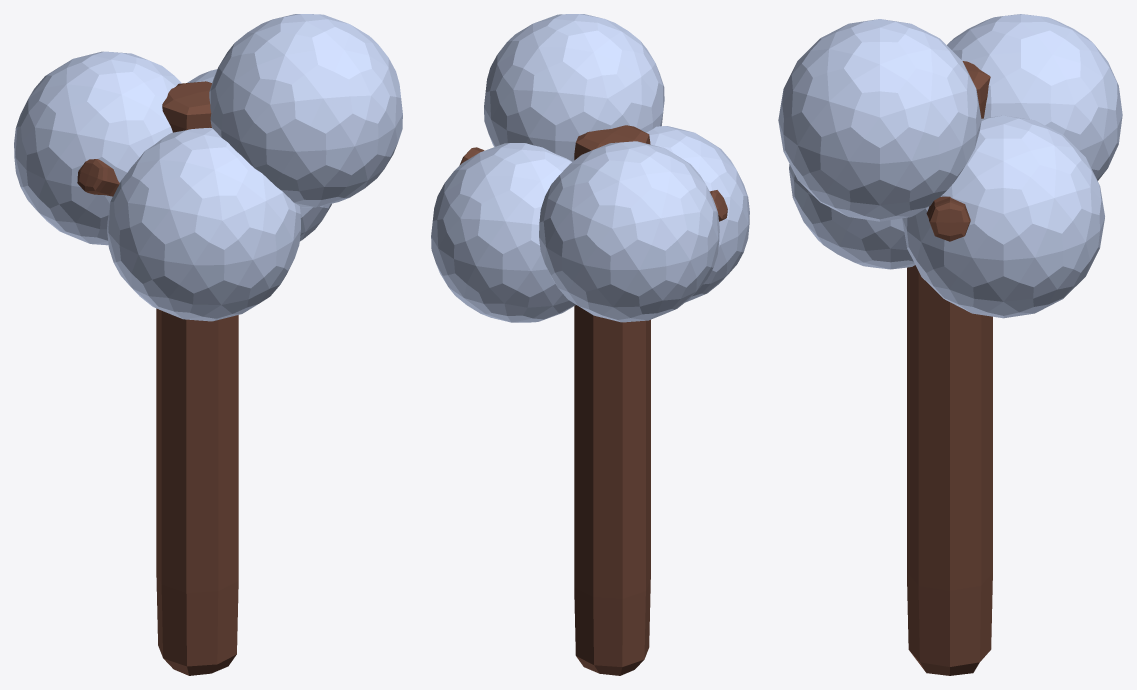
File: CottonMesh.fbx
3 views of the same model, side by side, from view 1: azimuth 30°, elevation 25°; view 2: azimuth 150°, elevation 25°; view 3: azimuth 270°, elevation 25° (orthographic). The views are drawn at different scales.
Parts seen in each view (by area): view 1: Cotton; view 2: Cotton; view 3: Cotton.
Boxes of the visible parts, box(x1,y1,x2,y2) form: Cotton: box(14, 14, 402, 675); Cotton: box(431, 14, 749, 675); Cotton: box(778, 14, 1122, 675).
Bounding box in the file's own units: 175 × 365 × 168.
